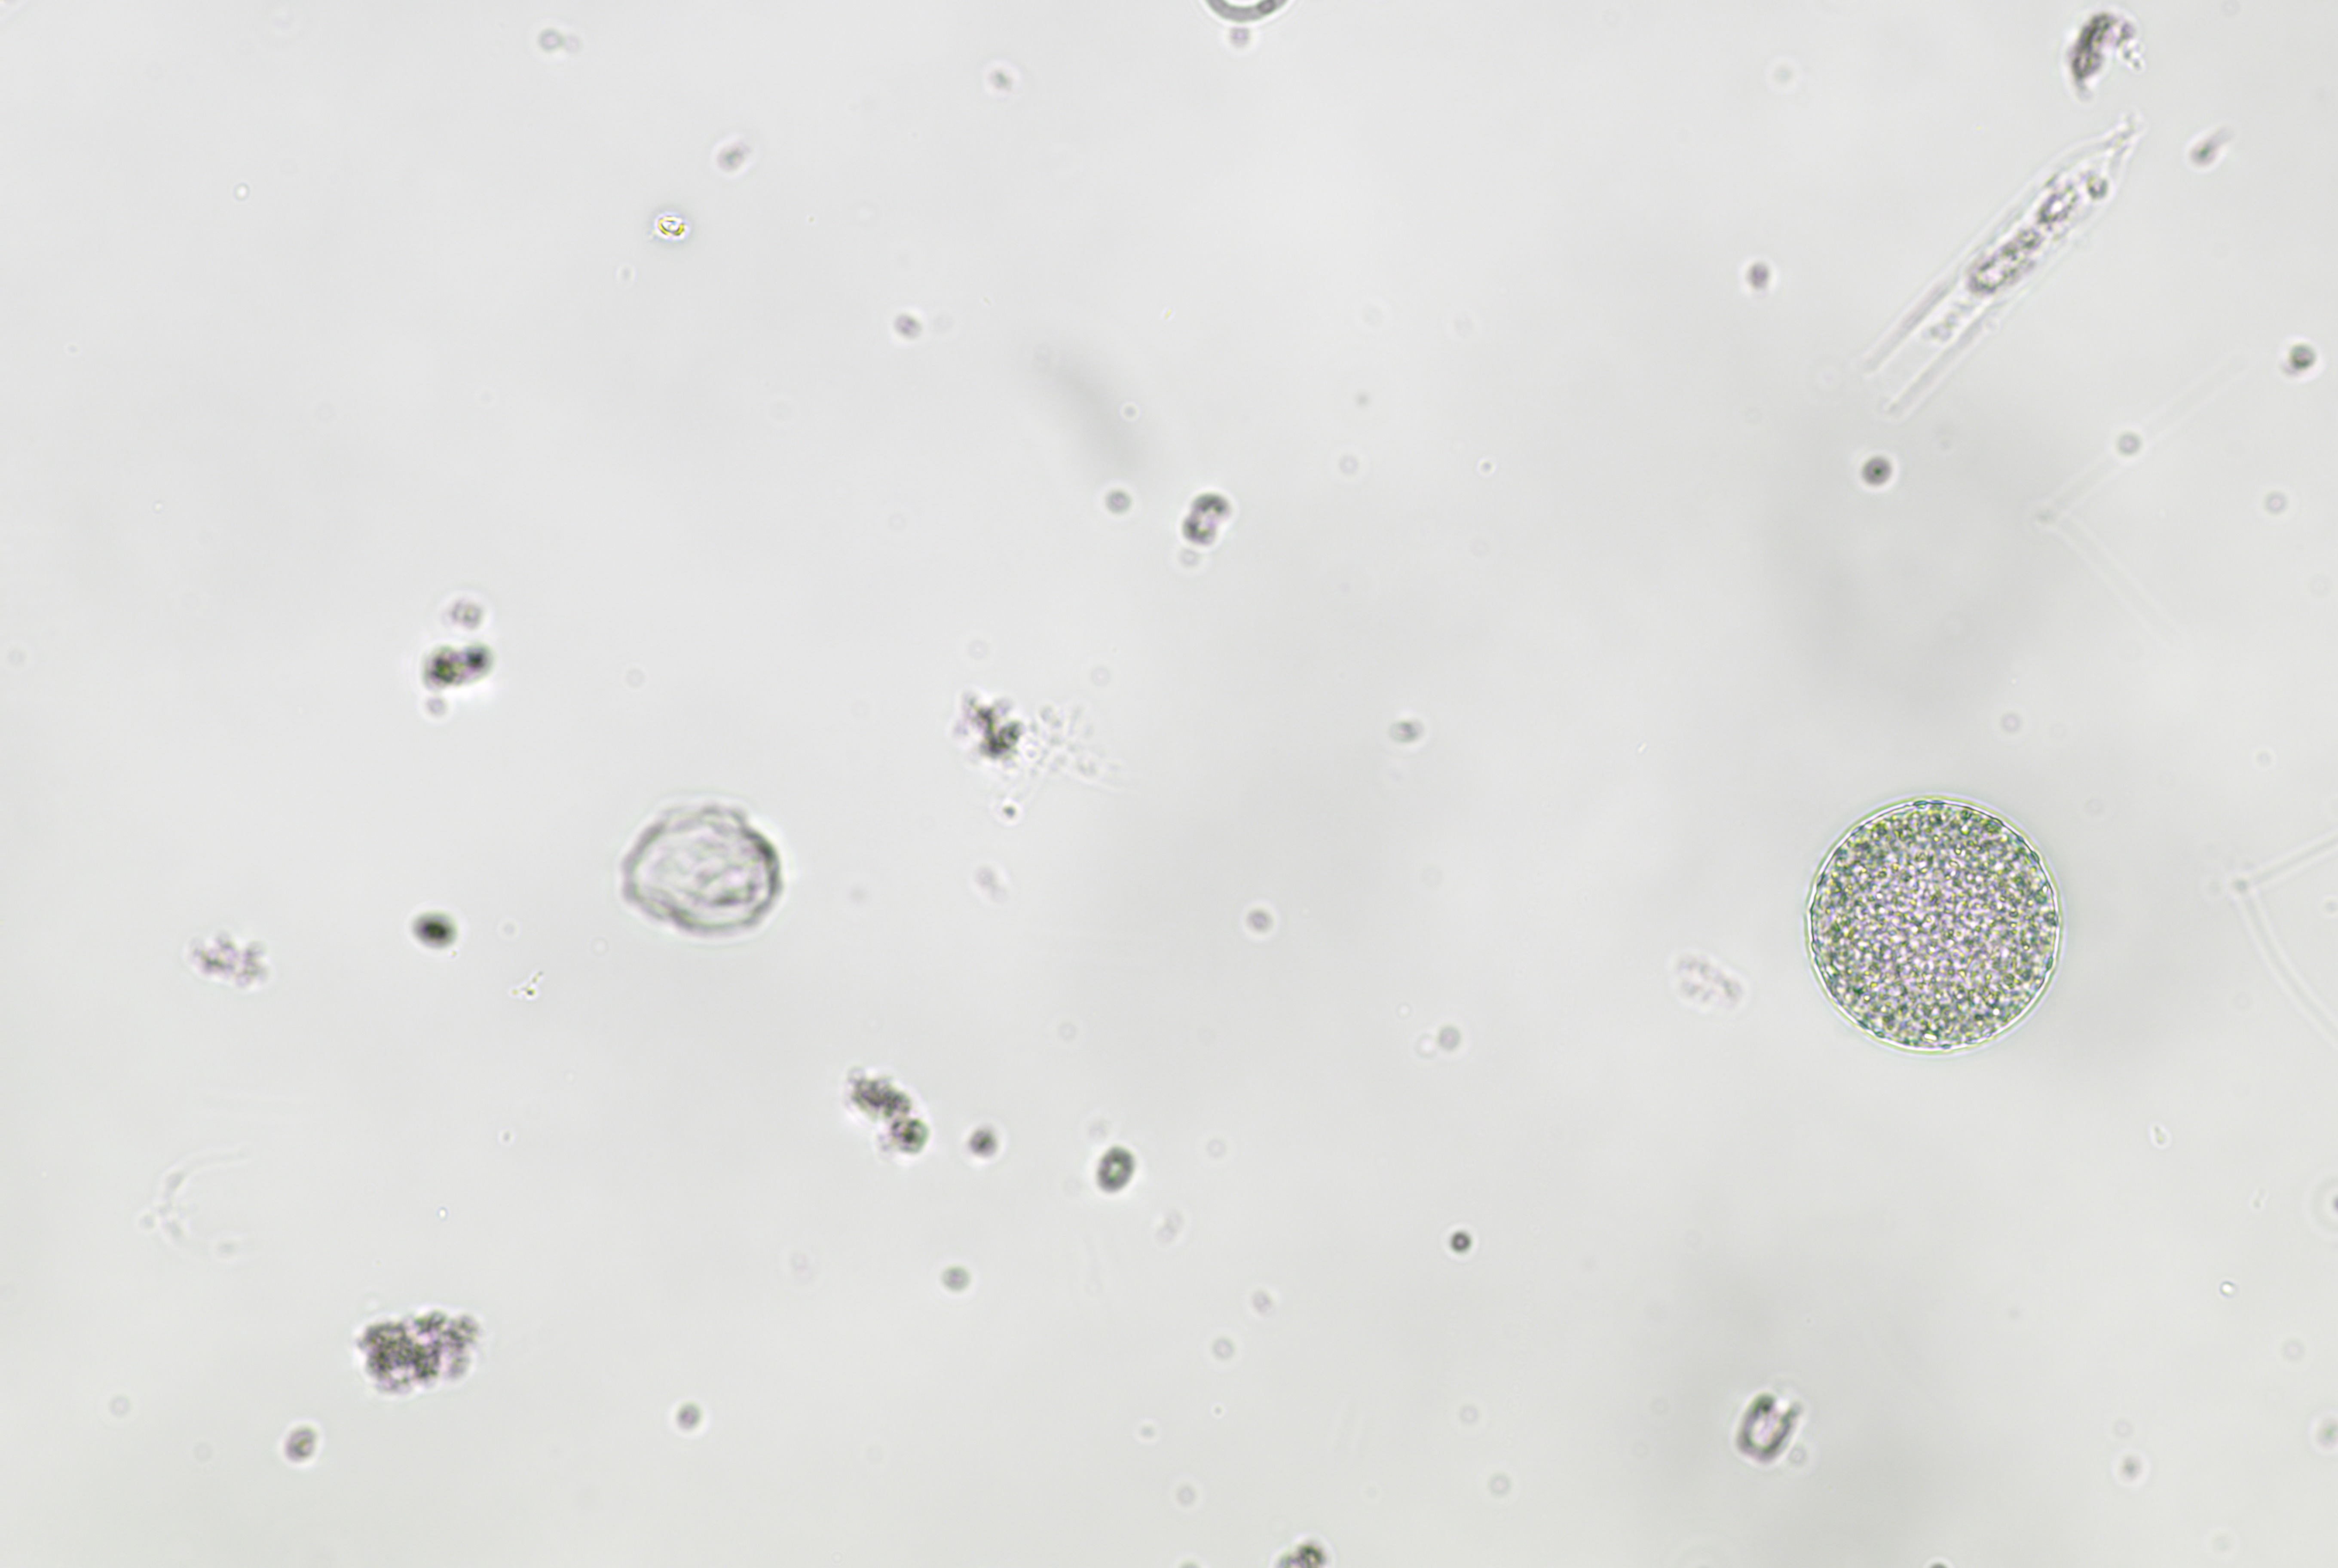coscinodiscus: (1792, 786, 2068, 1067)
rhizosolenia: (1834, 110, 2156, 420)
